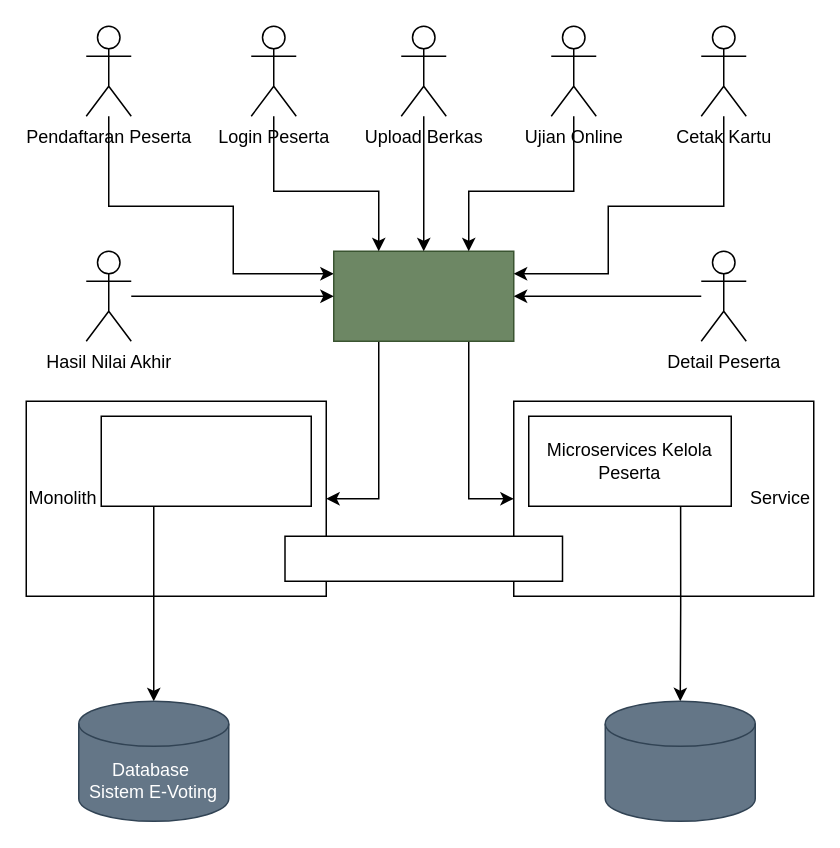
Some shapes in this 840 by 848 pixel diagram are drawn without their labels. The shapes that lost their labels are listed below. From the top down, each one's box as (x1, y1, x2, y2) in pixels, then its label:
(332, 250, 514, 341): API GATEWAY
(100, 415, 311, 506): Sistem Kelola Peserta
(284, 535, 562, 581): Integration System
(604, 700, 755, 821): Database Microservices
